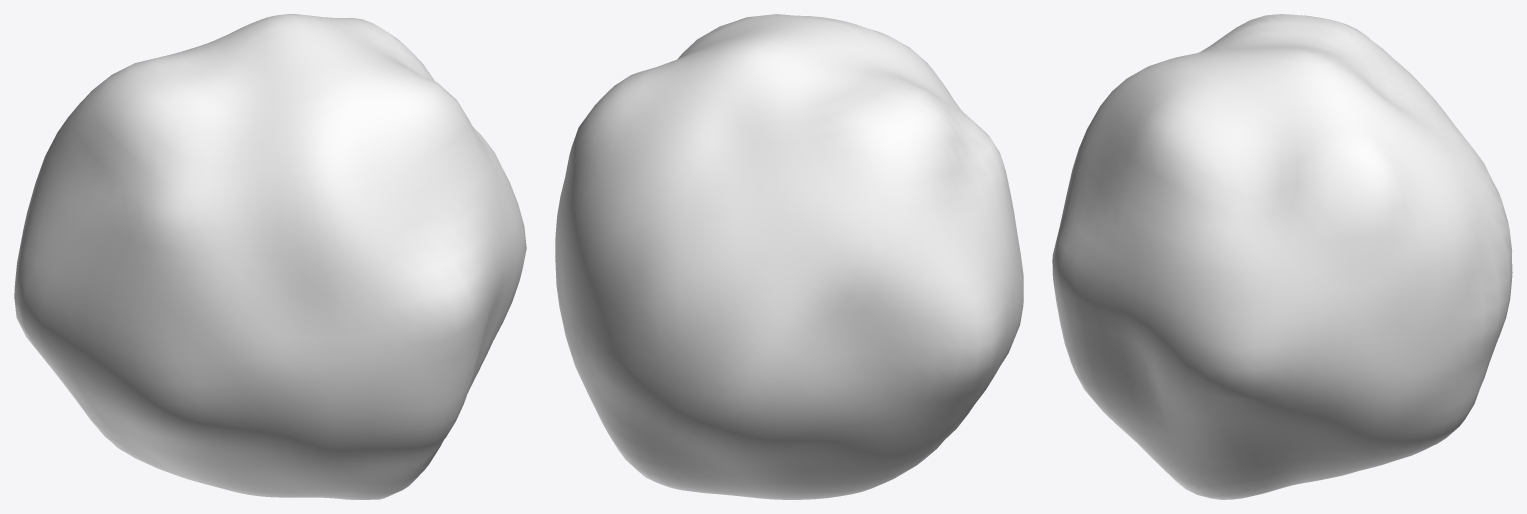
The model's file is bola_nieve2.fbx.
3 views of the same model, side by side, from view 1: azimuth 30°, elevation 25°; view 2: azimuth 150°, elevation 25°; view 3: azimuth 270°, elevation 25° (orthographic). The views are drawn at different scales.
Parts seen in each view (by area): view 1: Sphere; view 2: Sphere; view 3: Sphere.
Boxes of the visible parts, <box> form: Sphere: <box>14,14,526,499</box>; Sphere: <box>555,14,1023,499</box>; Sphere: <box>1052,14,1512,499</box>.
Bounding box in the file's own units: 222 × 209 × 208.
1 material, 1 textured.
